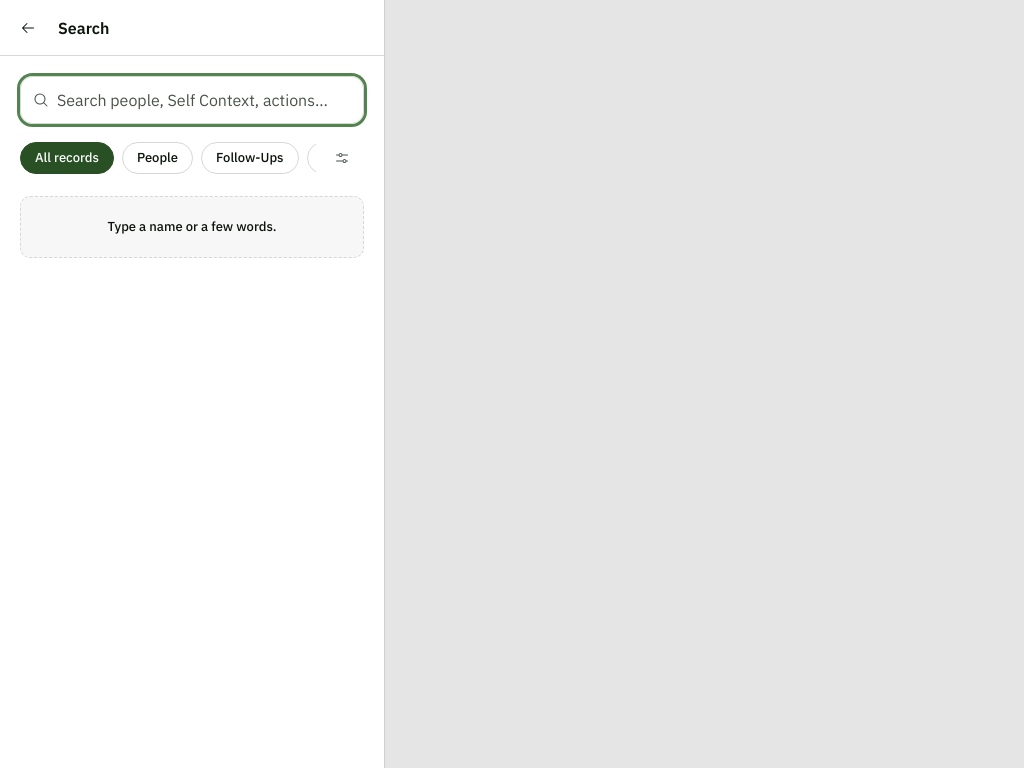
it: SearchFlow › leads a memory row with what was remembered, not with the person's name again
Type "jordan" into the field named "Search Tendnote" at [204, 100], box [57,88,351,112]
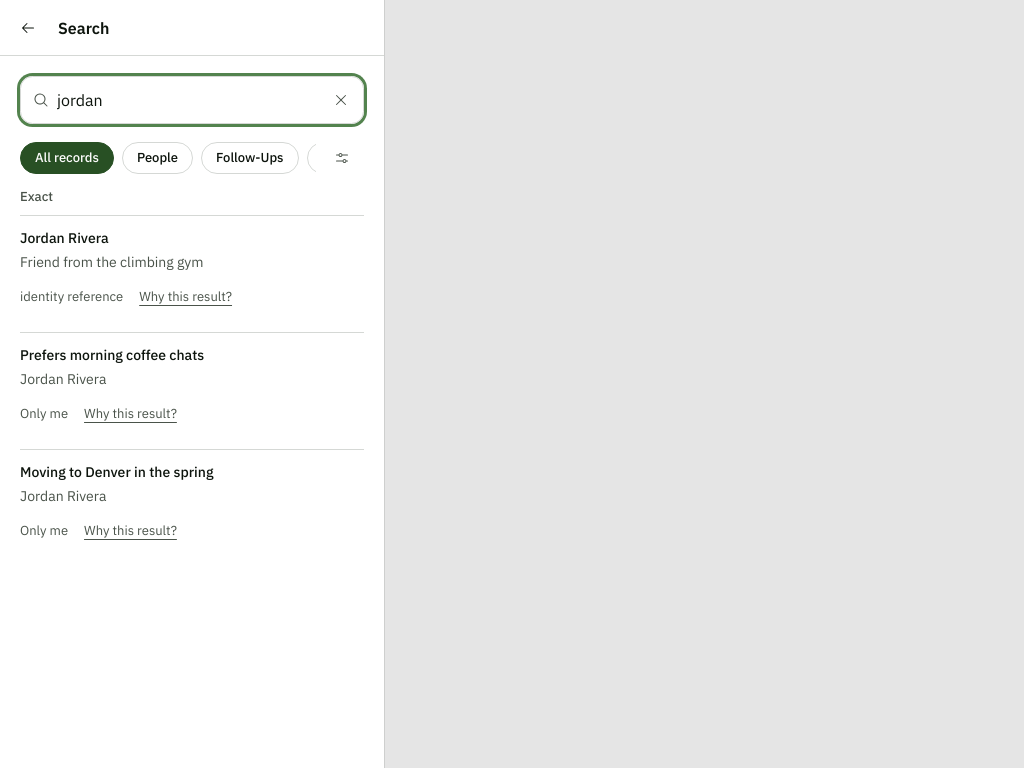
Expected: the text "Jordan Rivera" below "Prefers morning coffee chats" is shown, [20,370,106,388]
